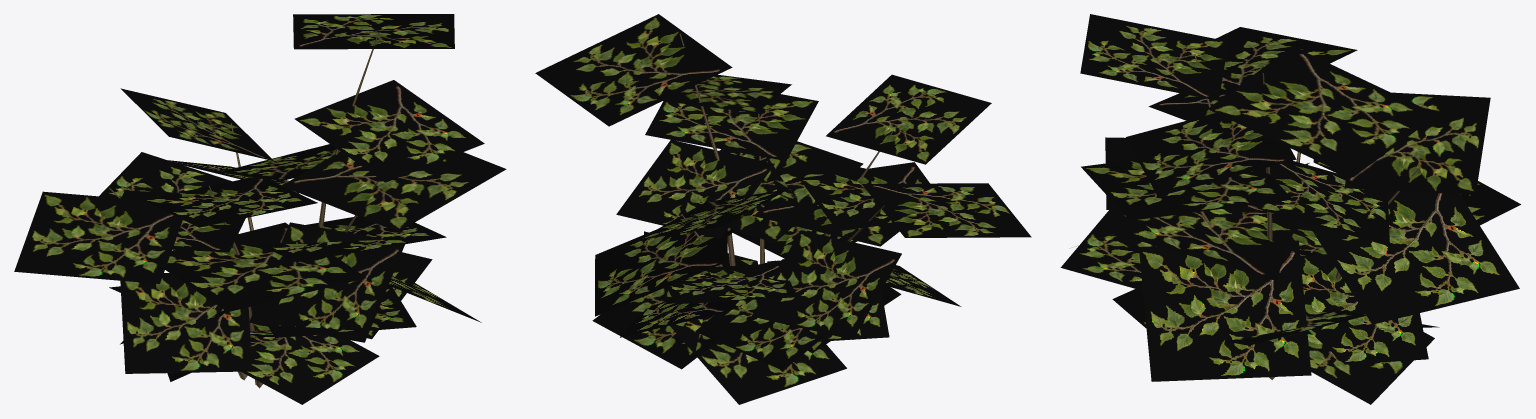
The model's file is hazel_bush_mid.gltf.
The picture shows the model from 3 angles, left to right: view 1: azimuth 30°, elevation 25°; view 2: azimuth 150°, elevation 25°; view 3: azimuth 270°, elevation 25°; orthographic projection. The views are drawn at different scales.
Parts seen in each view (by area): view 1: hazel_bush_mid; view 2: hazel_bush_mid; view 3: hazel_bush_mid.
Boxes of the visible parts, <box> form: hazel_bush_mid: <box>14,14,506,404</box>; hazel_bush_mid: <box>535,14,1031,404</box>; hazel_bush_mid: <box>1060,14,1520,404</box>.
Bounding box in the file's own units: 2.16 × 1.35 × 1.64.
Materials: 2 (1 with a texture image).
